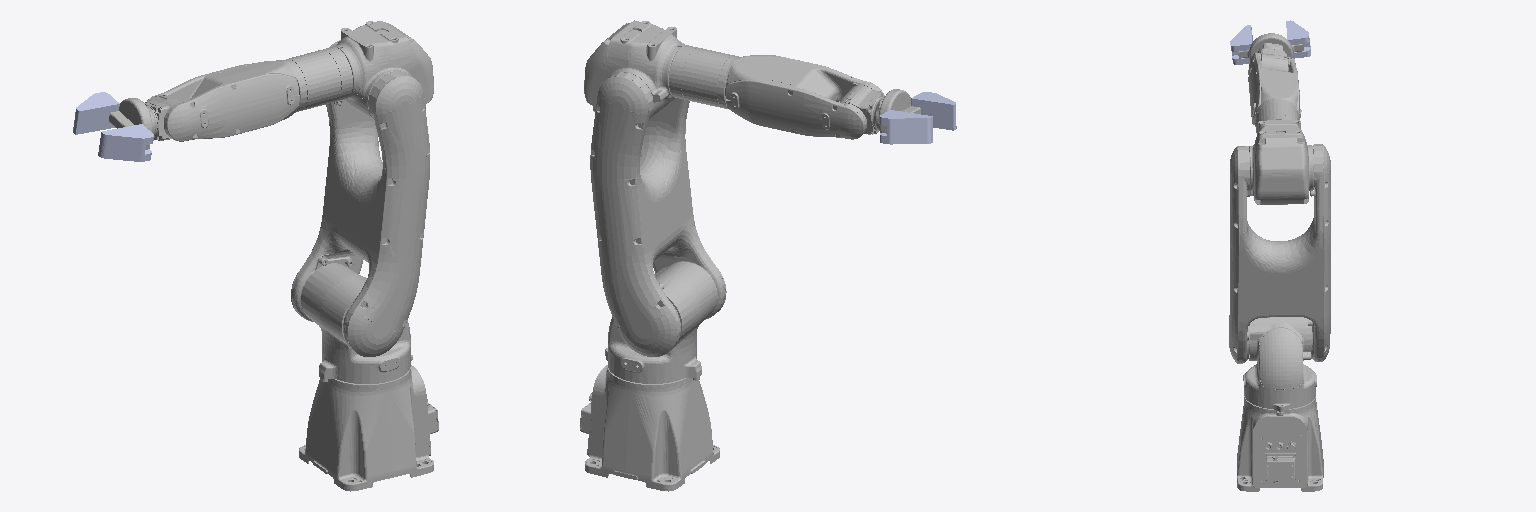
robot.urdf — GP7 Robot.SLDASM:
<?xml version="1.0" encoding="utf-8"?>
<!-- This URDF was automatically created by SolidWorks to URDF Exporter! Originally created by [author] ([email redacted]) 
     Commit Version: 1.6.0-4-g7f85cfe  Build Version: 1.6.7995.38578
     For more information, please see http://wiki.ros.org/sw_urdf_exporter -->
<robot
  name="GP7 Robot.SLDASM">
  <link
    name="base_link">
    <inertial>
      <origin
        xyz="0.00557 0.094758 1.2548E-06"
        rpy="0 0 0" />
      <mass
        value="5.2154" />
      <inertia
        ixx="0.026026"
        ixy="-0.00013987"
        ixz="2.6039E-05"
        iyy="0.02172"
        iyz="-4.7704E-05"
        izz="0.025295" />
    </inertial>
    <visual>
      <origin
        xyz="0 0 0"
        rpy="0 0 0" />
      <geometry>
        <mesh
          filename="package://GP7 Robot.SLDASM/meshes/base_link.STL" />
      </geometry>
      <material
        name="">
        <color
          rgba="0.75294 0.75294 0.75294 1" />
      </material>
    </visual>
    <collision>
      <origin
        xyz="0 0 0"
        rpy="0 0 0" />
      <geometry>
        <mesh
          filename="package://GP7 Robot.SLDASM/meshes/base_link.STL" />
      </geometry>
    </collision>
  </link>
  <link
    name="link_1">
    <inertial>
      <origin
        xyz="0.00013451 0.099849 -0.015672"
        rpy="0 0 0" />
      <mass
        value="2.9447" />
      <inertia
        ixx="0.011947"
        ixy="-1.2249E-06"
        ixz="1.7024E-06"
        iyy="0.0088687"
        iyz="0.0021793"
        izz="0.011181" />
    </inertial>
    <visual>
      <origin
        xyz="0 0 0"
        rpy="0 0 0" />
      <geometry>
        <mesh
          filename="package://GP7 Robot.SLDASM/meshes/link_1.STL" />
      </geometry>
      <material
        name="">
        <color
          rgba="0.75294 0.75294 0.75294 1" />
      </material>
    </visual>
    <collision>
      <origin
        xyz="0 0 0"
        rpy="0 0 0" />
      <geometry>
        <mesh
          filename="package://GP7 Robot.SLDASM/meshes/link_1.STL" />
      </geometry>
    </collision>
  </link>
  <joint
    name="joint_1"
    type="revolute">
    <origin
      xyz="0 0 0.1901"
      rpy="1.5708 0 1.6133" />
    <parent
      link="base_link" />
    <child
      link="link_1" />
    <axis
      xyz="0 1 0" />
    <limit
      lower="-2.8984"
      upper="3.0357"
      effort="300"
      velocity="3" />
  </joint>
  <link
    name="link_2">
    <inertial>
      <origin
        xyz="0.027625 0.00020192 -0.19499"
        rpy="0 0 0" />
      <mass
        value="6.2406" />
      <inertia
        ixx="0.1263"
        ixy="4.2892E-05"
        ixz="-0.00019254"
        iyy="0.11052"
        iyz="0.00048286"
        izz="0.027757" />
    </inertial>
    <visual>
      <origin
        xyz="0 0 0"
        rpy="0 0 0" />
      <geometry>
        <mesh
          filename="package://GP7 Robot.SLDASM/meshes/link_2.STL" />
      </geometry>
      <material
        name="">
        <color
          rgba="0.75294 0.75294 0.75294 1" />
      </material>
    </visual>
    <collision>
      <origin
        xyz="0 0 0"
        rpy="0 0 0" />
      <geometry>
        <mesh
          filename="package://GP7 Robot.SLDASM/meshes/link_2.STL" />
      </geometry>
    </collision>
  </link>
  <joint
    name="joint_2"
    type="revolute">
    <origin
      xyz="0 0.1399 -0.04"
      rpy="3.1416 -1.4572 -1.5708" />
    <parent
      link="link_1" />
    <child
      link="link_2" />
    <axis
      xyz="0 1 0" />
    <limit
      lower="-1.0209"
      upper="2.2079"
      effort="200"
      velocity="3" />
  </joint>
  <link
    name="link_3">
    <inertial>
      <origin
        xyz="-0.015909 -0.00085391 0.020055"
        rpy="0 0 0" />
      <mass
        value="2.8492" />
      <inertia
        ixx="0.0082318"
        ixy="2.897E-05"
        ixz="-0.00090367"
        iyy="0.0077915"
        iyz="-3.8658E-05"
        izz="0.0069342" />
    </inertial>
    <visual>
      <origin
        xyz="0 0 0"
        rpy="0 0 0" />
      <geometry>
        <mesh
          filename="package://GP7 Robot.SLDASM/meshes/link_3.STL" />
      </geometry>
      <material
        name="">
        <color
          rgba="0.75294 0.75294 0.75294 1" />
      </material>
    </visual>
    <collision>
      <origin
        xyz="0 0 0"
        rpy="0 0 0" />
      <geometry>
        <mesh
          filename="package://GP7 Robot.SLDASM/meshes/link_3.STL" />
      </geometry>
    </collision>
  </link>
  <joint
    name="joint_3"
    type="revolute">
    <origin
      xyz="0 0 -0.445"
      rpy="3.1416 -0.11355 3.1416" />
    <parent
      link="link_2" />
    <child
      link="link_3" />
    <axis
      xyz="0 -1 0" />
    <limit
      lower="-1.3353"
      upper="3.2026"
      effort="200"
      velocity="3" />
  </joint>
  <link
    name="link_4">
    <inertial>
      <origin
        xyz="0.17354 -0.00015255 -0.00015965"
        rpy="0 0 0" />
      <mass
        value="2.7554" />
      <inertia
        ixx="0.0030857"
        ixy="3.9977E-06"
        ixz="-0.00031862"
        iyy="0.010085"
        iyz="-2.4876E-06"
        izz="0.010785" />
    </inertial>
    <visual>
      <origin
        xyz="0 0 0"
        rpy="0 0 0" />
      <geometry>
        <mesh
          filename="package://GP7 Robot.SLDASM/meshes/link_4.STL" />
      </geometry>
      <material
        name="">
        <color
          rgba="0.75294 0.75294 0.75294 1" />
      </material>
    </visual>
    <collision>
      <origin
        xyz="0 0 0"
        rpy="0 0 0" />
      <geometry>
        <mesh
          filename="package://GP7 Robot.SLDASM/meshes/link_4.STL" />
      </geometry>
    </collision>
  </link>
  <joint
    name="joint_4"
    type="revolute">
    <origin
      xyz="0.07223 0 0.04"
      rpy="-1.3963 0 0" />
    <parent
      link="link_3" />
    <child
      link="link_4" />
    <axis
      xyz="1 0 0" />
    <limit
      lower="-0.34907"
      upper="0"
      effort="200"
      velocity="3" />
  </joint>
  <link
    name="link_5">
    <inertial>
      <origin
        xyz="0.0002539 0.01321 -0.0017485"
        rpy="0 0 0" />
      <mass
        value="0.24589" />
      <inertia
        ixx="0.00013953"
        ixy="-2.1177E-06"
        ixz="1.9619E-07"
        iyy="0.00015684"
        iyz="-1.2921E-06"
        izz="0.00018562" />
    </inertial>
    <visual>
      <origin
        xyz="0 0 0"
        rpy="0 0 0" />
      <geometry>
        <mesh
          filename="package://GP7 Robot.SLDASM/meshes/link_5.STL" />
      </geometry>
      <material
        name="">
        <color
          rgba="0.75294 0.75294 0.75294 1" />
      </material>
    </visual>
    <collision>
      <origin
        xyz="0 0 0"
        rpy="0 0 0" />
      <geometry>
        <mesh
          filename="package://GP7 Robot.SLDASM/meshes/link_5.STL" />
      </geometry>
    </collision>
  </link>
  <joint
    name="joint_5"
    type="revolute">
    <origin
      xyz="0.36777 0 0"
      rpy="3.1416 0 1.4978" />
    <parent
      link="link_4" />
    <child
      link="link_5" />
    <axis
      xyz="0 0 1" />
    <limit
      lower="-2.2832"
      upper="2.4292"
      effort="200"
      velocity="3" />
  </joint>
  <link
    name="link_6">
    <inertial>
      <origin
        xyz="0.015638 -1.064E-11 -7.5295E-06"
        rpy="0 0 0" />
      <mass
        value="0.21473" />
      <inertia
        ixx="0.00031095"
        ixy="5.579E-14"
        ixz="2.0764E-09"
        iyy="0.00020913"
        iyz="-4.5256E-05"
        izz="0.00014711" />
    </inertial>
    <visual>
      <origin
        xyz="0 0 0"
        rpy="0 0 0" />
      <geometry>
        <mesh
          filename="package://GP7 Robot.SLDASM/meshes/link_6.STL" />
      </geometry>
      <material
        name="">
        <color
          rgba="0.75294 0.75294 0.75294 1" />
      </material>
    </visual>
    <collision>
      <origin
        xyz="0 0 0"
        rpy="0 0 0" />
      <geometry>
        <mesh
          filename="package://GP7 Robot.SLDASM/meshes/link_6.STL" />
      </geometry>
    </collision>
  </link>
  <joint
    name="joint_6"
    type="revolute">
    <origin
      xyz="0 0.069505 0"
      rpy="-2.9483 0 1.5708" />
    <parent
      link="link_5" />
    <child
      link="link_6" />
    <axis
      xyz="-1 0 0" />
    <limit
      lower="-3.3331"
      upper="2.9466"
      effort="200"
      velocity="3" />
  </joint>
  <link
    name="link_7">
    <inertial>
      <origin
        xyz="2.2204E-16 0.020964 0.0047329"
        rpy="0 0 0" />
      <mass
        value="0.14476" />
      <inertia
        ixx="9.9337E-05"
        ixy="-8.4703E-22"
        ixz="-2.1099E-19"
        iyy="0.00010865"
        iyz="-1.6659E-05"
        izz="5.7847E-05" />
    </inertial>
    <visual>
      <origin
        xyz="0 0 0"
        rpy="0 0 0" />
      <geometry>
        <mesh
          filename="package://GP7 Robot.SLDASM/meshes/link_7.STL" />
      </geometry>
      <material
        name="">
        <color
          rgba="0.79216 0.81961 0.93333 1" />
      </material>
    </visual>
    <collision>
      <origin
        xyz="0 0 0"
        rpy="0 0 0" />
      <geometry>
        <mesh
          filename="package://GP7 Robot.SLDASM/meshes/link_7.STL" />
      </geometry>
    </collision>
  </link>
  <joint
    name="joint_7"
    type="prismatic">
    <origin
      xyz="0.065495 -0.018092 -0.034338"
      rpy="-1.5708 0.48492 1.5708" />
    <parent
      link="link_6" />
    <child
      link="link_7" />
    <axis
      xyz="0 1 0" />
    <limit
      lower="0"
      upper="0.03"
      effort="100"
      velocity="3" />
  </joint>
  <link
    name="link_8">
    <inertial>
      <origin
        xyz="0 0.020964 0.0047329"
        rpy="0 0 0" />
      <mass
        value="0.14476" />
      <inertia
        ixx="9.9337E-05"
        ixy="1.0842E-19"
        ixz="7.3401E-20"
        iyy="0.00010865"
        iyz="-1.6659E-05"
        izz="5.7847E-05" />
    </inertial>
    <visual>
      <origin
        xyz="0 0 0"
        rpy="0 0 0" />
      <geometry>
        <mesh
          filename="package://GP7 Robot.SLDASM/meshes/link_8.STL" />
      </geometry>
      <material
        name="">
        <color
          rgba="0.79216 0.81961 0.93333 1" />
      </material>
    </visual>
    <collision>
      <origin
        xyz="0 0 0"
        rpy="0 0 0" />
      <geometry>
        <mesh
          filename="package://GP7 Robot.SLDASM/meshes/link_8.STL" />
      </geometry>
    </collision>
  </link>
  <joint
    name="joint_8"
    type="prismatic">
    <origin
      xyz="0.065495 0.018092 0.034338"
      rpy="1.5708 -0.48492 -1.5708" />
    <parent
      link="link_6" />
    <child
      link="link_8" />
    <axis
      xyz="0 -1 0" />
    <limit
      lower="-0.03"
      upper="0"
      effort="100"
      velocity="3" />
  </joint>
</robot>

--- Render facts (derived) ---
3 views of the same robot in one strip: view 1: azimuth 30°, elevation 25°; view 2: azimuth 150°, elevation 25°; view 3: azimuth 270°, elevation 25° (orthographic).
Model GP7 Robot.SLDASM with 9 links and 8 joints (6 revolute, 2 prismatic), rooted at base_link, posed every joint at zero.
Visible links, largest first — view 1: link_2, base_link, link_4, link_1, link_3, link_8, link_7, link_6, link_5; view 2: link_2, base_link, link_4, link_1, link_3, link_7, link_8, link_5, link_6; view 3: link_2, base_link, link_1, link_3, link_4, link_6, link_5, link_7, link_8.
Link boxes in pixels (bbox=[...]): link_2: bbox=[291, 40, 429, 356]; base_link: bbox=[299, 355, 438, 491]; link_4: bbox=[147, 47, 352, 141]; link_1: bbox=[301, 263, 410, 383]; link_3: bbox=[333, 21, 433, 119]; link_8: bbox=[98, 124, 153, 161]; link_7: bbox=[73, 92, 119, 134]; link_6: bbox=[109, 98, 152, 149]; link_5: bbox=[144, 95, 182, 140]; link_2: bbox=[590, 41, 726, 356]; base_link: bbox=[580, 357, 719, 491]; link_4: bbox=[669, 45, 883, 139]; link_1: bbox=[605, 262, 716, 383]; link_3: bbox=[584, 20, 684, 118]; link_7: bbox=[879, 110, 932, 144]; link_8: bbox=[911, 92, 956, 130]; link_5: bbox=[839, 85, 884, 134]; link_6: bbox=[878, 89, 920, 133]; link_2: bbox=[1229, 144, 1330, 363]; base_link: bbox=[1237, 396, 1323, 491]; link_1: bbox=[1243, 317, 1316, 411]; link_3: bbox=[1249, 120, 1313, 204]; link_4: bbox=[1248, 53, 1301, 134]; link_6: bbox=[1238, 33, 1303, 60]; link_5: bbox=[1258, 43, 1288, 71]; link_7: bbox=[1286, 20, 1310, 58]; link_8: bbox=[1230, 25, 1252, 64].
Size in the robot's own frame: 0.7488 by 0.2339 by 0.8741 metres.
Meshes: 9 distinct files referenced, 9 mesh visuals loaded (9 binary STL).